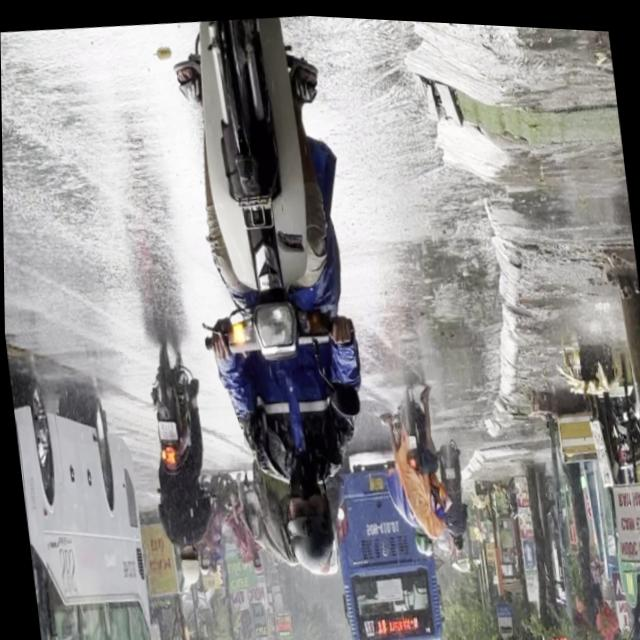helmet: (279, 481, 338, 576), (175, 546, 200, 585)
licenseplate: (159, 6, 391, 592), (135, 338, 222, 589)
nohelmet: (157, 417, 176, 439)
